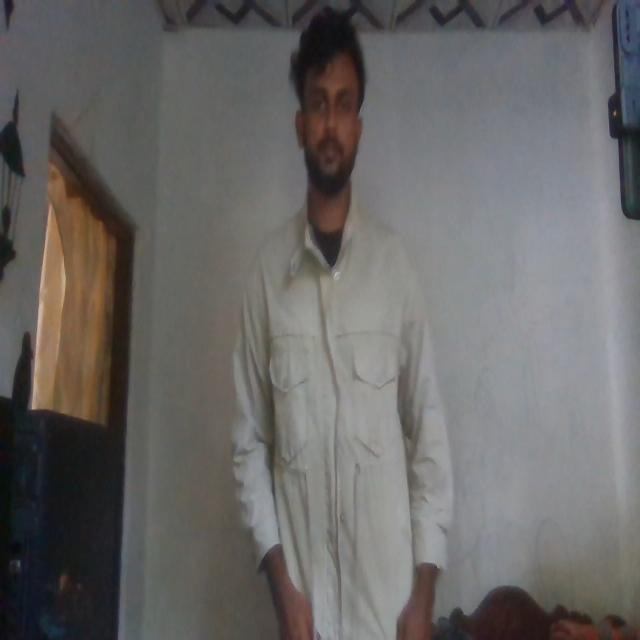Jacket_Wearer: (230, 184, 456, 604)
Person: (231, 2, 459, 640)
